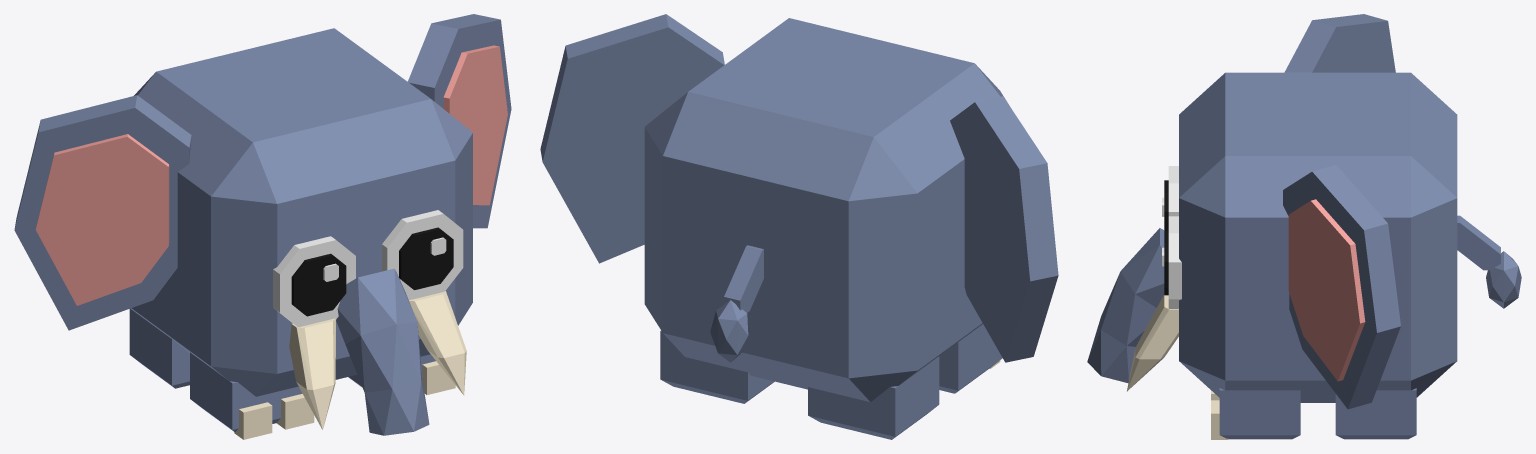
Rendered from Elephant.fbx.
3 views of the same model, side by side, from view 1: azimuth 30°, elevation 25°; view 2: azimuth 150°, elevation 25°; view 3: azimuth 270°, elevation 25° (orthographic). The views are drawn at different scales.
Visible parts, largest first — view 1: Elephant, Elephant_EarInner, Elephant_Ears, Elephant_Trunk, Elephant_Tusks, Elephant_Eyes, Elephant_Feet, Elephant_Pupils, Elephant_Nails; view 2: Elephant, Elephant_Ears, Elephant_Feet, Elephant_Tuft, Elephant_Tail; view 3: Elephant, Elephant_Ears, Elephant_EarInner, Elephant_Feet, Elephant_Trunk, Elephant_Tusks, Elephant_Eyes, Elephant_Tail, Elephant_Tuft, Elephant_Pupils, Elephant_Nails.
Boxes of the visible parts, x1,y1,x2,y2 form: Elephant: (130,28,472,396); Elephant_EarInner: (35,45,507,305); Elephant_Ears: (14,14,511,330); Elephant_Trunk: (336,268,429,435); Elephant_Tusks: (289,291,466,429); Elephant_Eyes: (273,210,463,327); Elephant_Feet: (129,308,435,432); Elephant_Pupils: (291,227,453,316); Elephant_Nails: (234,361,455,439); Elephant: (644,18,1006,402); Elephant_Ears: (540,14,1058,362); Elephant_Feet: (660,324,1002,439); Elephant_Tuft: (710,300,748,362); Elephant_Tail: (724,245,763,312); Elephant: (1179,72,1457,402); Elephant_Ears: (1283,14,1400,409); Elephant_EarInner: (1288,199,1365,381); Elephant_Feet: (1219,388,1416,439); Elephant_Trunk: (1087,228,1164,382); Elephant_Tusks: (1127,294,1178,391); Elephant_Eyes: (1162,166,1181,308); Elephant_Tail: (1457,215,1500,270); Elephant_Tuft: (1486,251,1521,308); Elephant_Pupils: (1164,180,1168,295); Elephant_Nails: (1211,390,1228,439).
Bounding box in the file's own units: 3.8 × 2.24 × 3.
